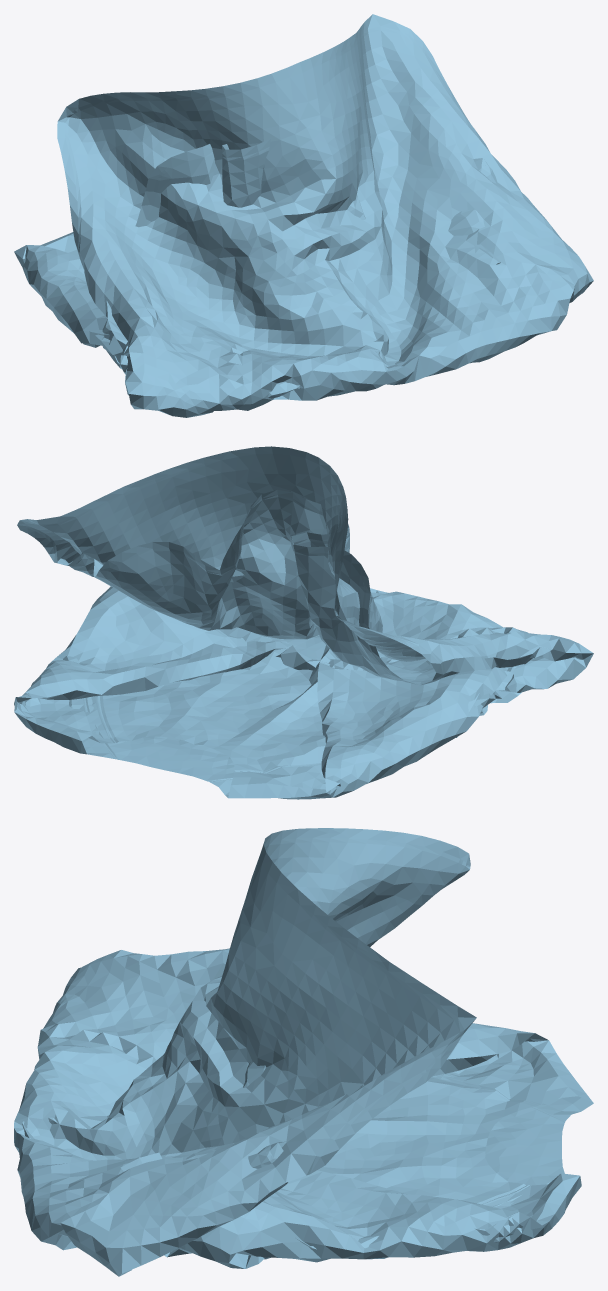
The model's file is frame_18.glb.
The picture shows the model from 3 angles, top to bottom: view 1: azimuth 30°, elevation 25°; view 2: azimuth 150°, elevation 25°; view 3: azimuth 270°, elevation 25°; orthographic projection. The views are drawn at different scales.
Visible parts, largest first — view 1: frame_18.obj; view 2: frame_18.obj; view 3: frame_18.obj.
Boxes of the visible parts, x1,y1,x2,y2 form: frame_18.obj: (14, 14, 593, 417); frame_18.obj: (14, 446, 593, 799); frame_18.obj: (14, 828, 593, 1276).
Bounding box in the file's own units: 1.16 × 0.589 × 1.01.
